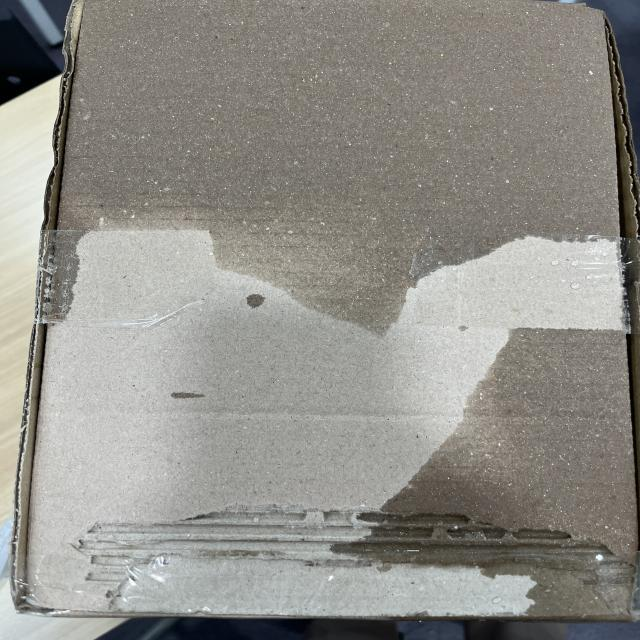wet: (59, 0, 640, 615)
